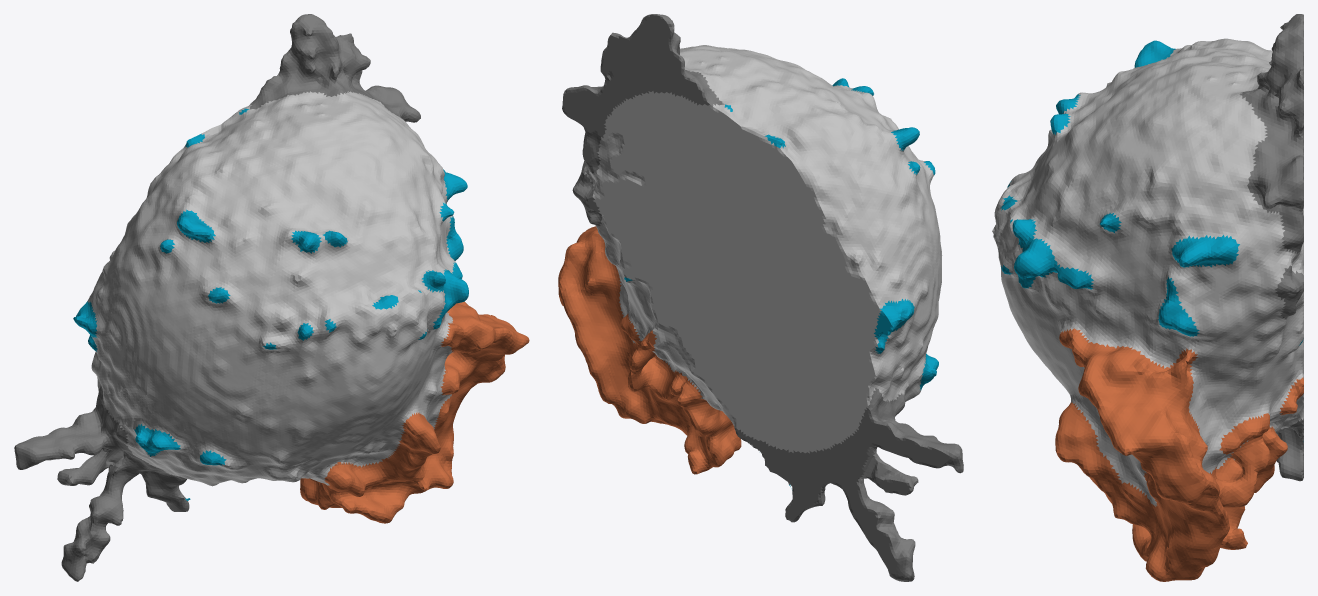
The picture shows the model from 3 angles, left to right: view 1: azimuth 30°, elevation 25°; view 2: azimuth 150°, elevation 25°; view 3: azimuth 270°, elevation 25°; orthographic projection. The views are drawn at different scales.
Size of the model in its own units: 133 by 145 by 70.38.
